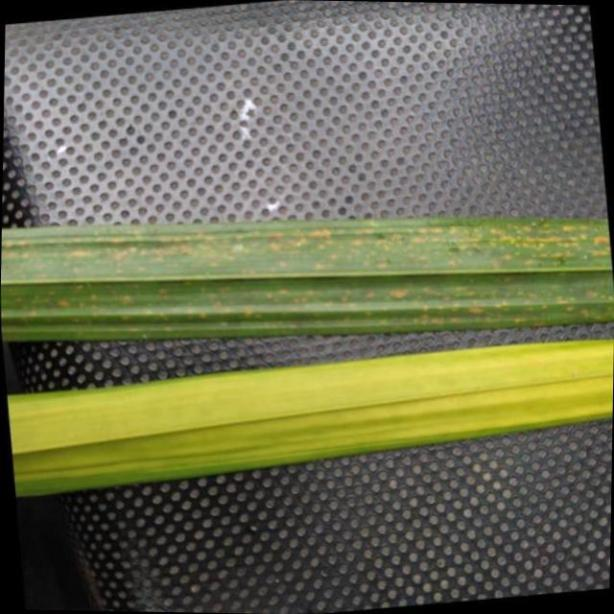nitrogen: (0, 341, 614, 502), (0, 214, 614, 341)
